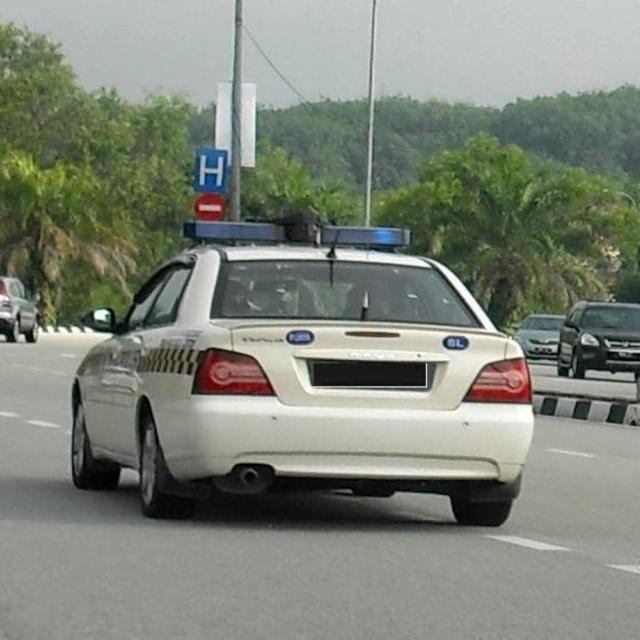car: (58, 231, 529, 525)
